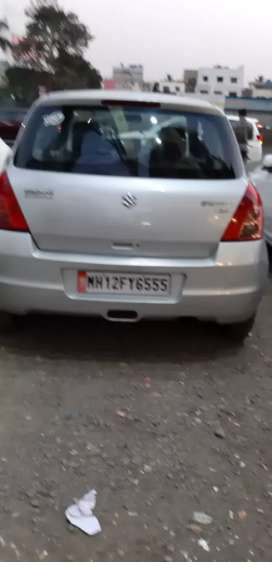license_plate: (71, 268, 178, 299)
